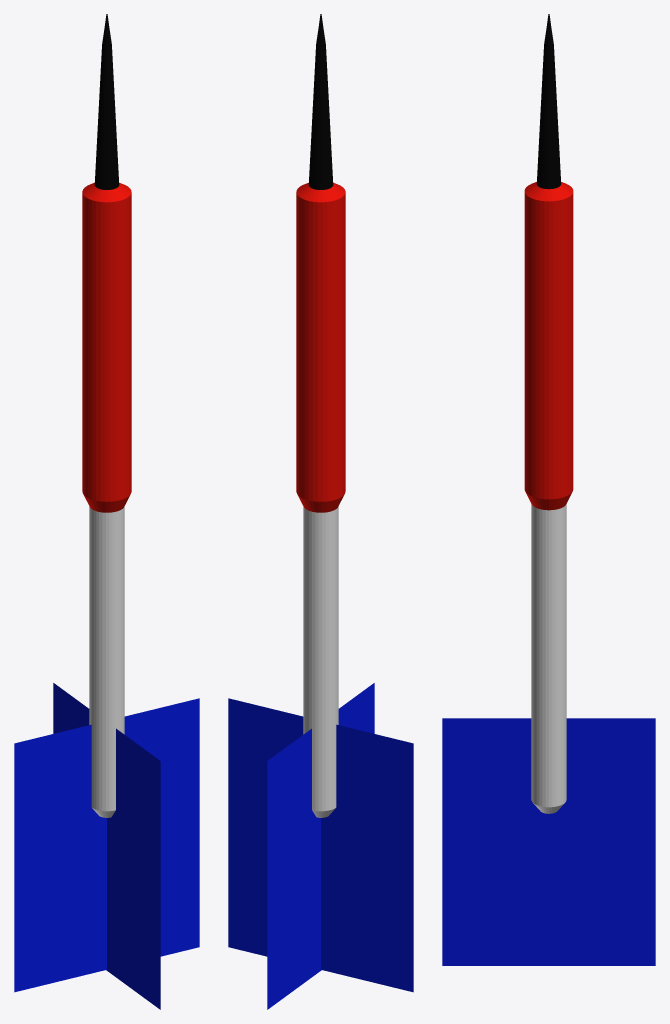
File: Dartpfeil2.glb
The picture shows the model from 3 angles, left to right: view 1: azimuth 30°, elevation 25°; view 2: azimuth 150°, elevation 25°; view 3: azimuth 270°, elevation 25°; orthographic projection.
Parts seen in each view (by area): view 1: Fläche.003, Zylinder, Fläche.001; view 2: Fläche.003, Zylinder, Fläche.001; view 3: Fläche.001, Zylinder.
Boxes of the visible parts, <box> form: Fläche.003: <box>14,698,199,992</box>; Zylinder: <box>82,14,131,817</box>; Fläche.001: <box>53,683,160,1009</box>; Fläche.003: <box>228,698,413,992</box>; Zylinder: <box>296,14,345,817</box>; Fläche.001: <box>267,683,374,1009</box>; Fläche.001: <box>442,718,655,965</box>; Zylinder: <box>524,14,573,813</box>.
Bounding box in the file's own units: 0.0348 × 0.1715 × 0.0348.
